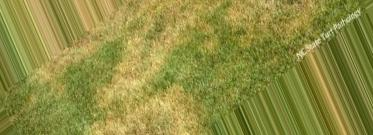patch: (117, 91, 200, 133), (243, 6, 306, 28), (122, 55, 149, 93), (147, 20, 174, 49)
